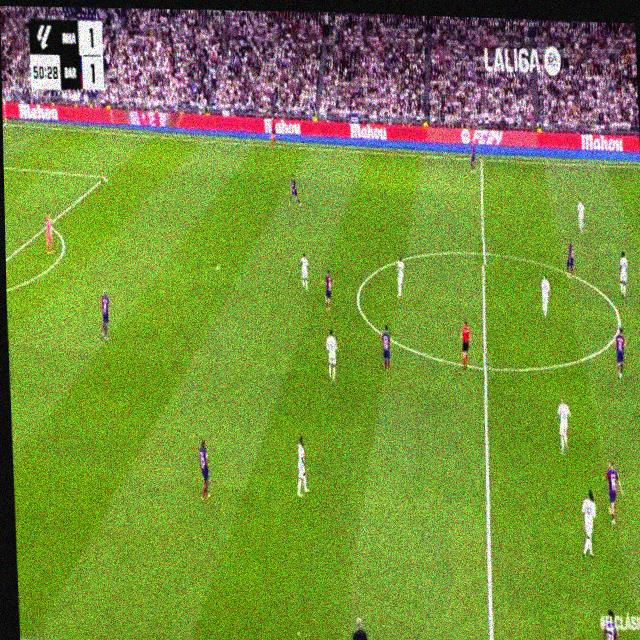bigarea_top_inner: (100, 170, 108, 184)
corner: (3, 115, 9, 127)
halfcircle_bottom: (478, 353, 492, 381)
halfcircle_top: (476, 238, 490, 265)
midline_top_intersection: (478, 153, 484, 165)
top_arc_area_intersection: (45, 218, 52, 232)
